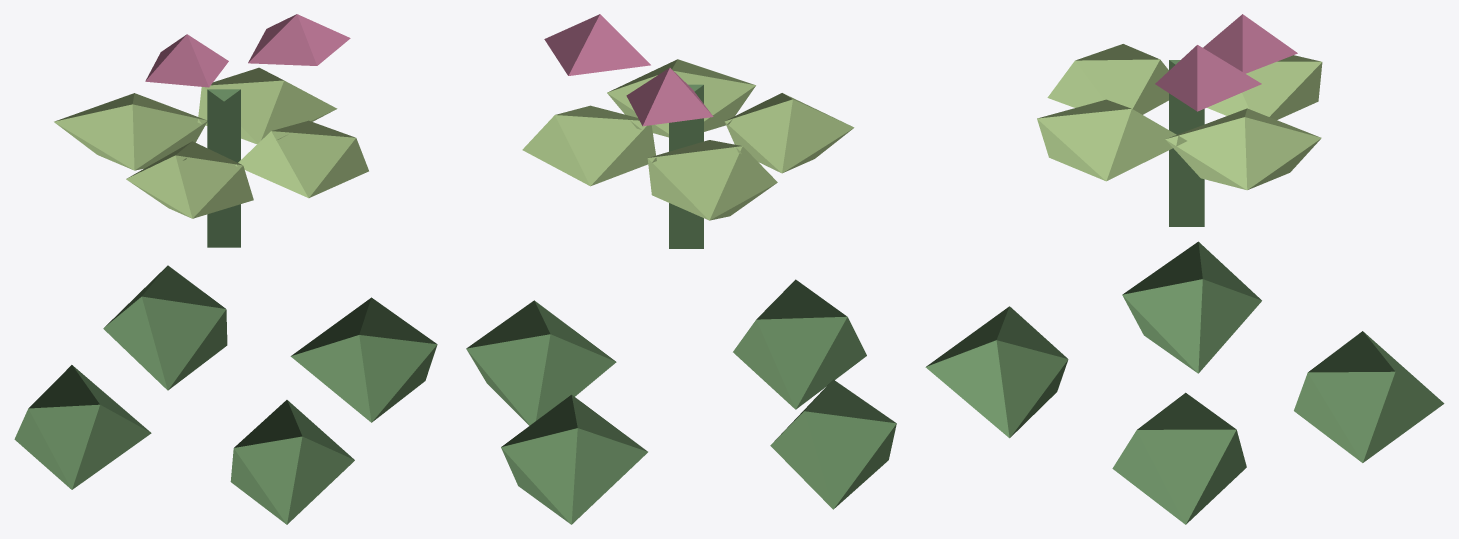
Rendered from water.trop.lotus__spring.glb.
3 views of the same model, side by side, from view 1: azimuth 30°, elevation 25°; view 2: azimuth 150°, elevation 25°; view 3: azimuth 270°, elevation 25° (orthographic). The views are drawn at different scales.
Visible parts, largest first — view 1: water.trop.lotus__spring; view 2: water.trop.lotus__spring; view 3: water.trop.lotus__spring.
Part boxes in pixels (x1,y1,x2,y2): water.trop.lotus__spring: (14,14,437,524); water.trop.lotus__spring: (466,14,896,524); water.trop.lotus__spring: (925,14,1444,524).
Size of the model in its own units: 1.09 by 1.06 by 1.12.
